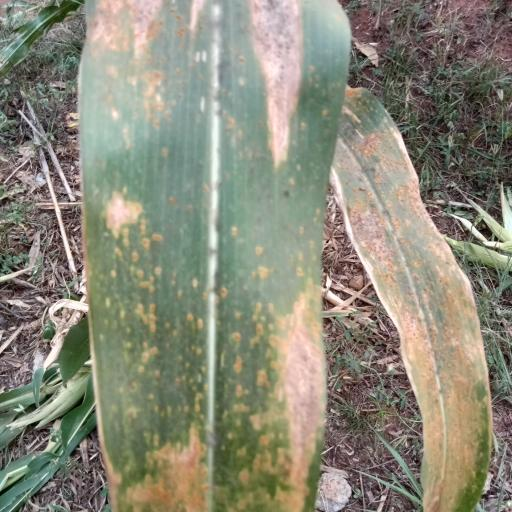Corn_Rust: (70, 0, 356, 512), (331, 79, 497, 512)
